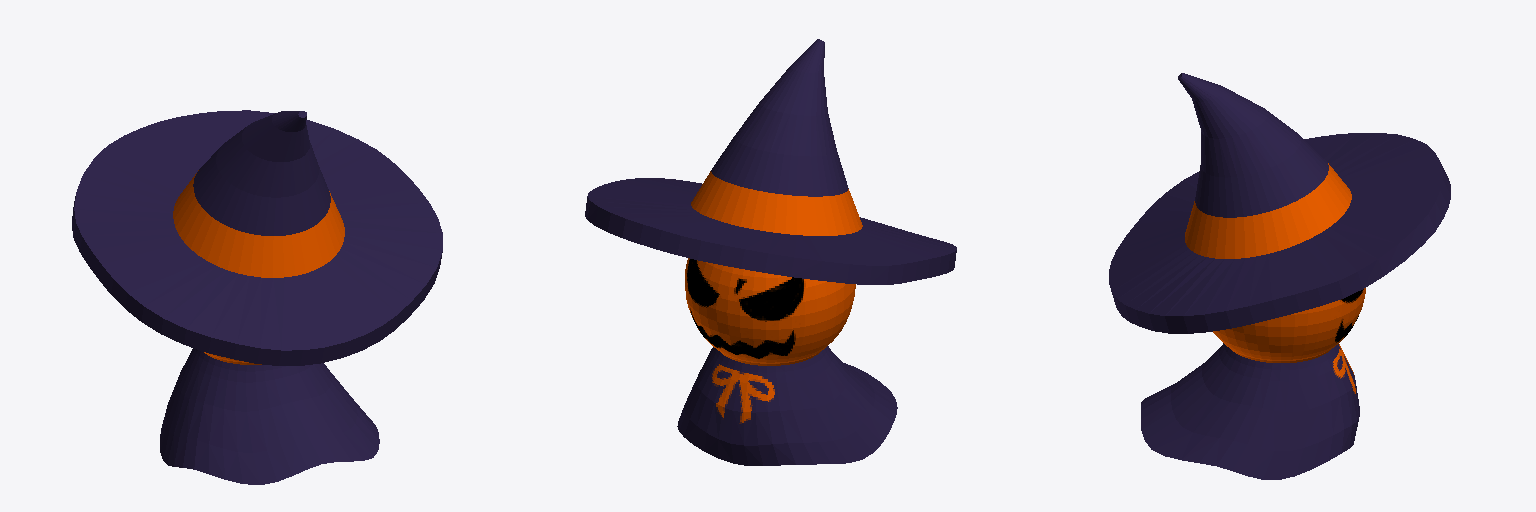
The picture shows the model from 3 angles: view 1: azimuth 30°, elevation 25°; view 2: azimuth 150°, elevation 25°; view 3: azimuth 270°, elevation 25°; orthographic projection.
Visible parts, largest first — view 1: majo; view 2: majo; view 3: majo.
Part boxes in pixels (x1,y1,x2,y2): majo: (72,110,442,484); majo: (585,39,956,465); majo: (1109,73,1450,479).
Size of the model in its own units: 4.5 by 4.94 by 4.22.
Materials: 1 (1 with a texture image).